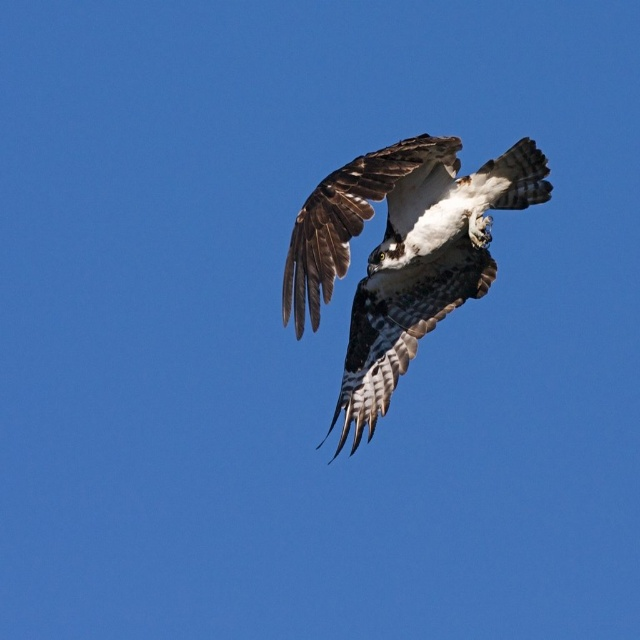Eagle: (271, 117, 547, 464)
